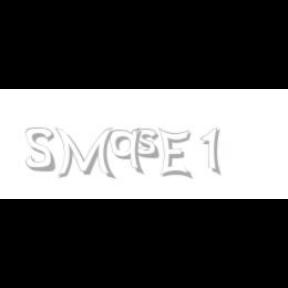1: (199, 128, 221, 176)
E: (158, 128, 191, 180)
M: (55, 128, 114, 180)
S: (25, 128, 56, 172)
q: (109, 128, 145, 176)
s: (136, 128, 164, 160)
